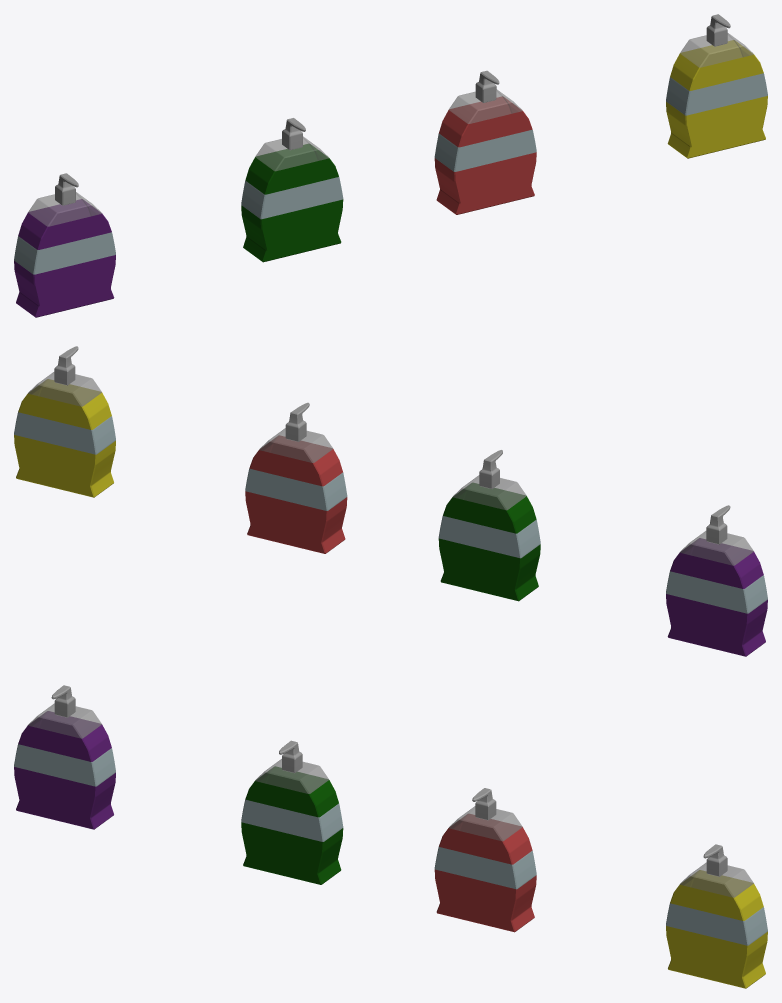
File: Soap_Bottles.fbx
The picture shows the model from 3 angles, top to bottom: view 1: azimuth 30°, elevation 25°; view 2: azimuth 150°, elevation 25°; view 3: azimuth 330°, elevation 25°; orthographic projection.
Parts seen in each view (by area): view 1: Soap_Bottle3, Soap_Bottle2, Soap_Bottle, Soap_Bottle1; view 2: Soap_Bottle2, Soap_Bottle3, Soap_Bottle, Soap_Bottle1; view 3: Soap_Bottle2, Soap_Bottle3, Soap_Bottle, Soap_Bottle1.
Boxes of the visible parts, x1,y1,x2,y2 form: Soap_Bottle3: (666, 14, 767, 158); Soap_Bottle2: (434, 70, 536, 214); Soap_Bottle: (14, 173, 115, 317); Soap_Bottle1: (241, 118, 343, 262); Soap_Bottle2: (245, 402, 347, 553); Soap_Bottle3: (14, 346, 115, 497); Soap_Bottle: (666, 505, 767, 656); Soap_Bottle1: (438, 450, 540, 601); Soap_Bottle2: (434, 788, 536, 932); Soap_Bottle3: (666, 844, 767, 988); Soap_Bottle: (14, 685, 115, 829); Soap_Bottle1: (241, 740, 343, 884).
Size of the model in its own units: 0.6482 by 0.1063 by 0.035.
